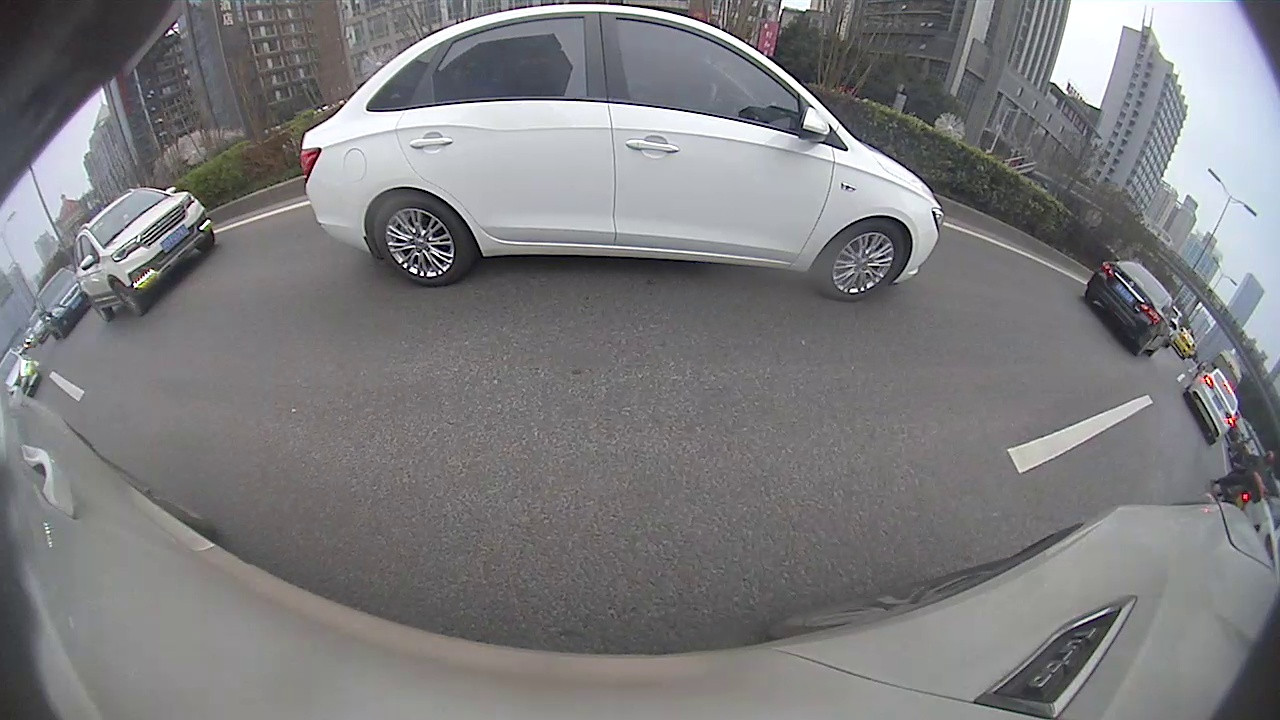car: (299, 5, 946, 305), (72, 186, 217, 323), (1083, 260, 1178, 359), (1184, 368, 1240, 447)
front: (817, 229, 916, 302), (108, 278, 141, 317)
rear: (372, 194, 470, 287)
